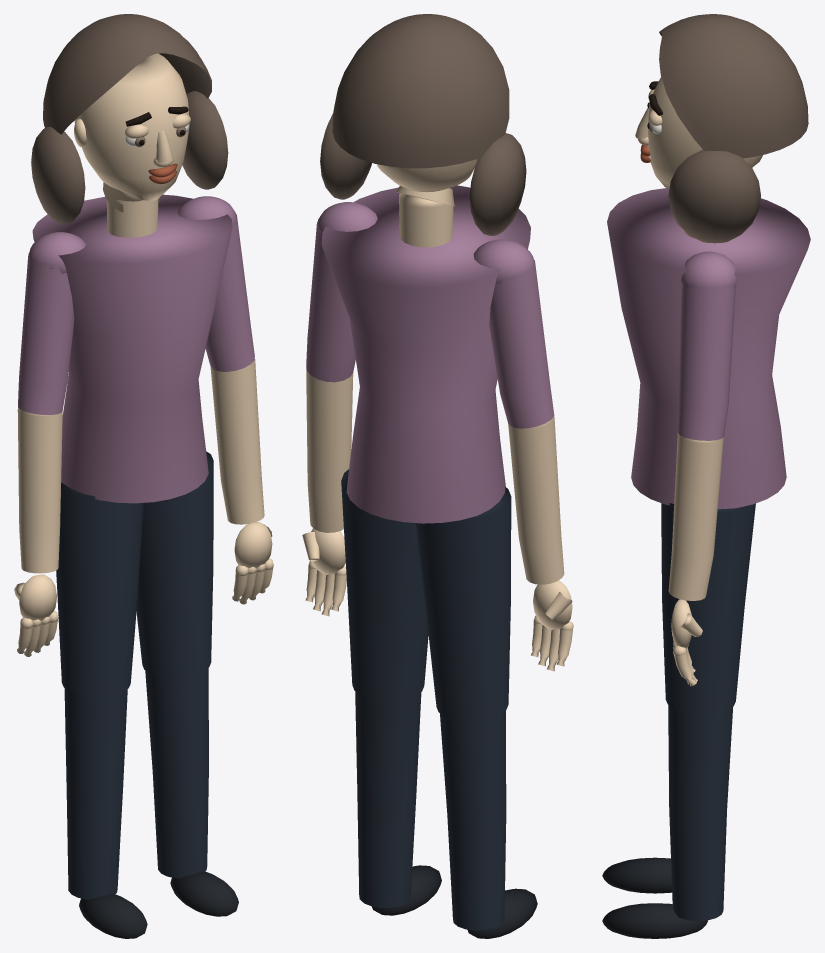
3 views of the same model, side by side, from view 1: azimuth 30°, elevation 25°; view 2: azimuth 150°, elevation 25°; view 3: azimuth 270°, elevation 25° (orthographic). The views are drawn at different scales.
Visible parts, largest first — view 1: rana_fig, rana_head; view 2: rana_fig, rana_head; view 3: rana_fig, rana_head.
Part boxes in pixels (<box>): rana_fig: <box>14,194,273,938</box>; rana_head: <box>31,14,228,224</box>; rana_fig: <box>302,185,573,938</box>; rana_head: <box>320,14,526,235</box>; rana_fig: <box>602,188,810,938</box>; rana_head: <box>635,14,808,243</box>.
Bounding box in the file's own units: 0.5154 × 1.68 × 0.3564.
